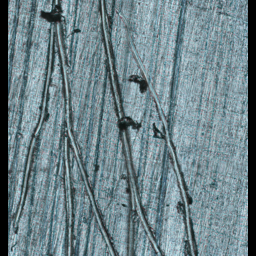d: (9, 0, 208, 255)
